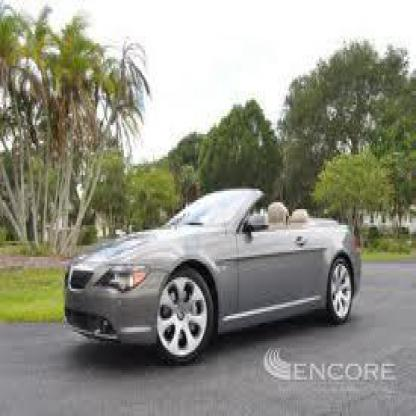Vehicle: (63, 184, 364, 373)
